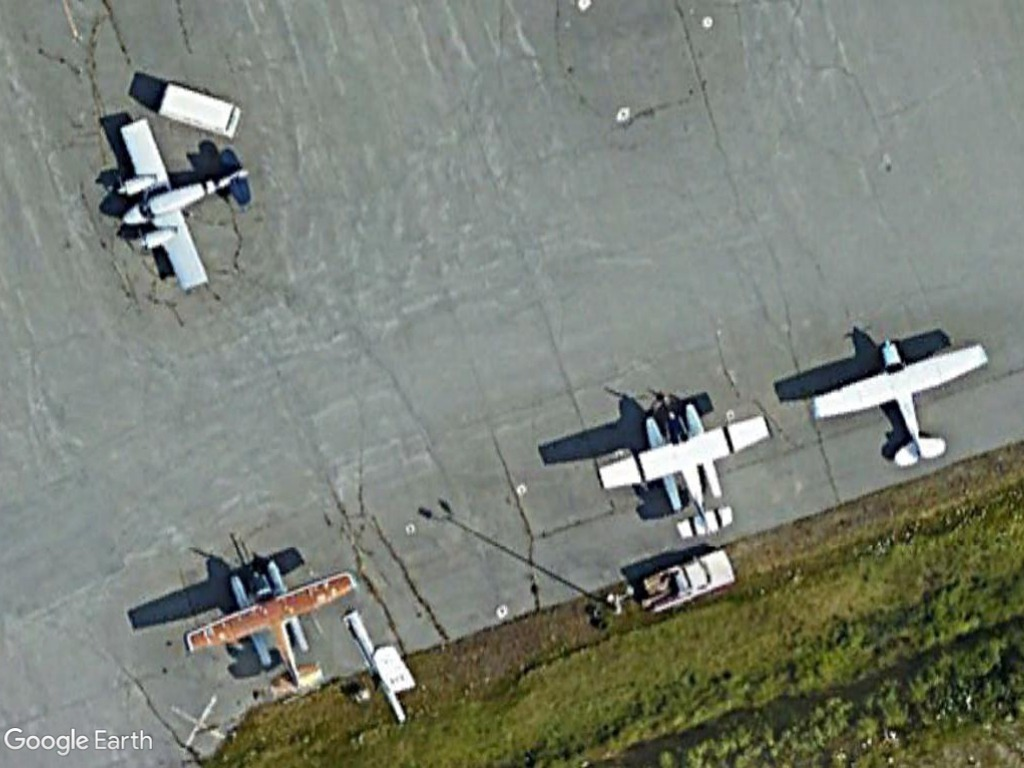other: (634, 547, 737, 615)
propeller: (106, 114, 258, 302)
trainer: (804, 329, 1002, 475)
